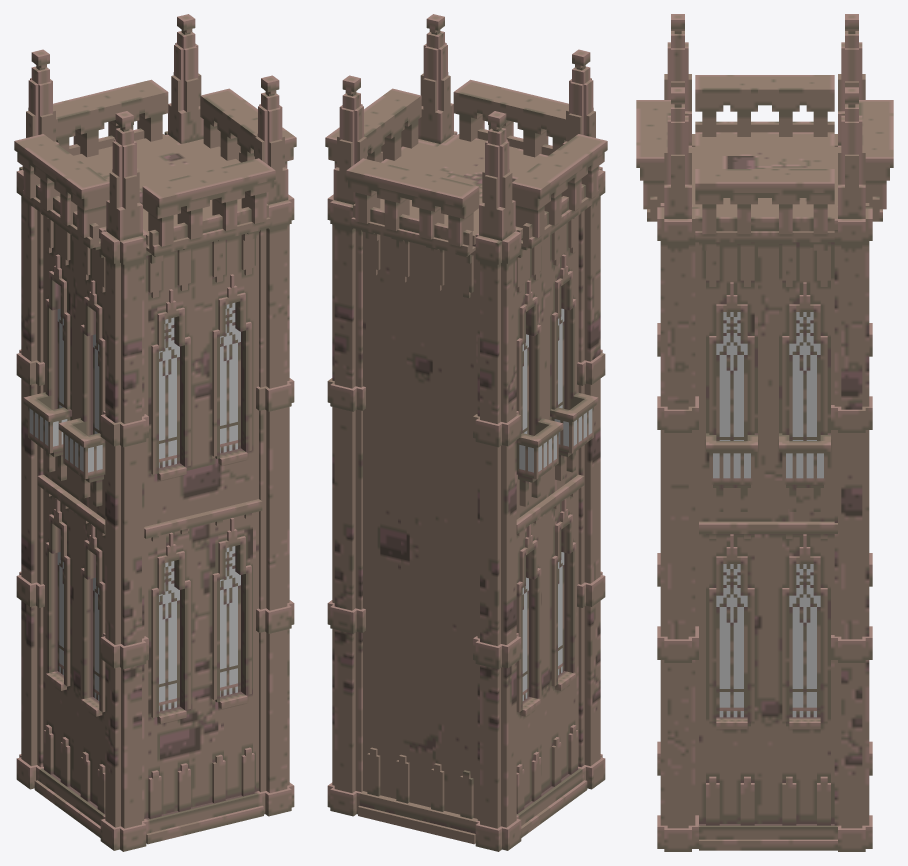
Rendered from Tower-3.fbx.
The picture shows the model from 3 angles, left to right: view 1: azimuth 30°, elevation 25°; view 2: azimuth 150°, elevation 25°; view 3: azimuth 270°, elevation 25°; orthographic projection. The views are drawn at different scales.
Parts seen in each view (by area): view 1: Tower-3; view 2: Tower-3; view 3: Tower-3.
Boxes of the visible parts, <box> form: Tower-3: <box>14,14,296,851</box>; Tower-3: <box>325,14,607,851</box>; Tower-3: <box>636,14,893,851</box>.
Bounding box in the file's own units: 370 × 1195 × 370.
